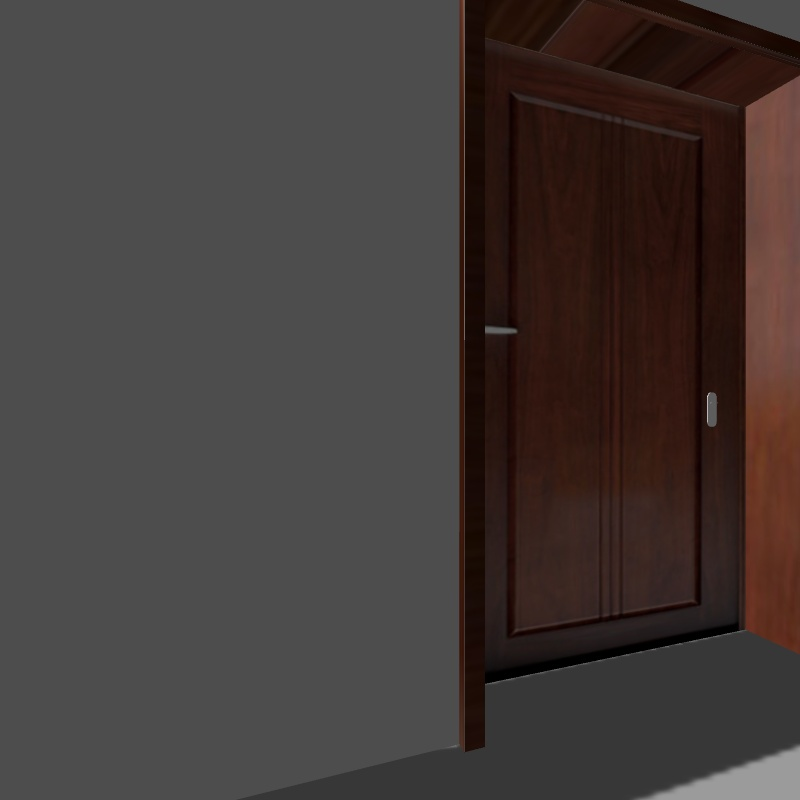handle: (470, 301, 526, 349)
